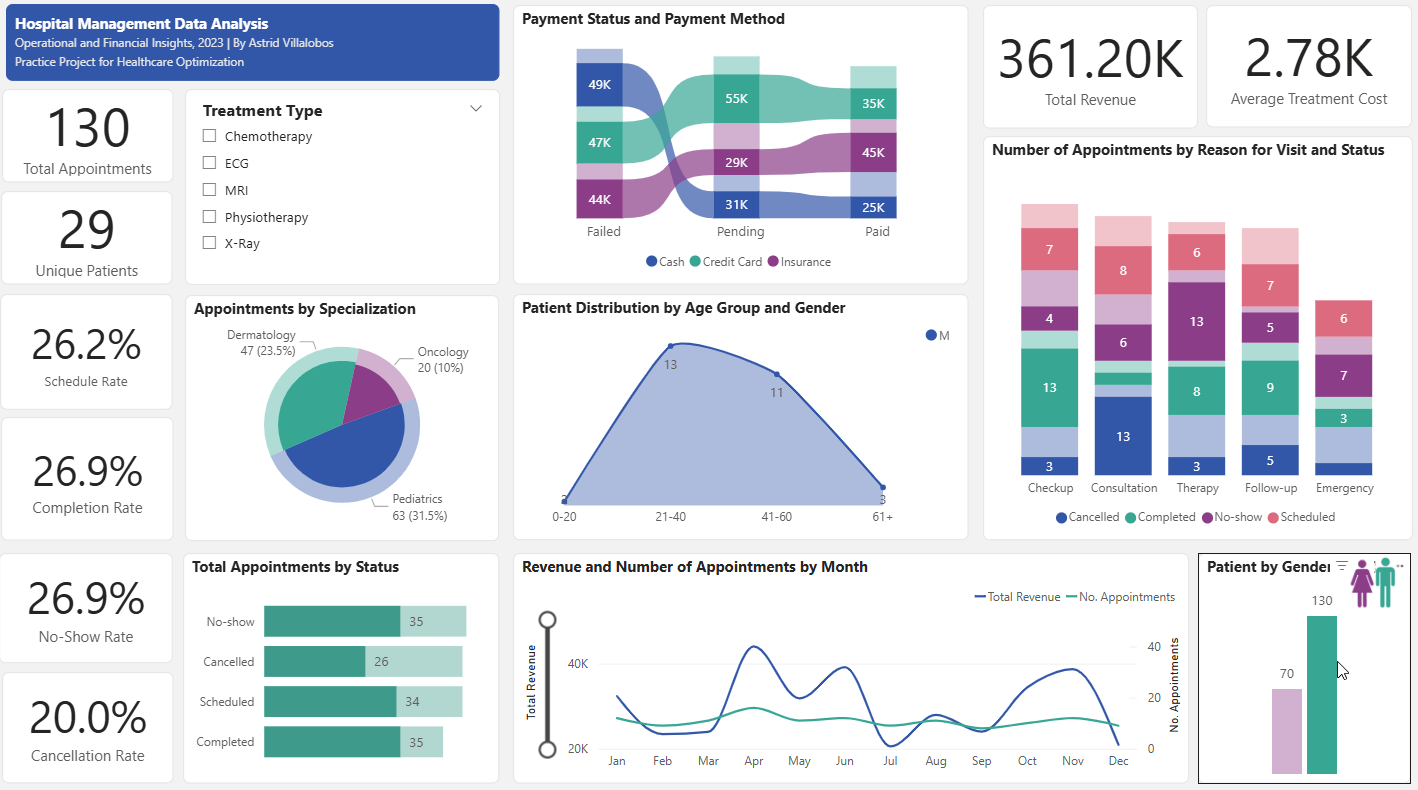

The dashboard page shown, as its layout file describes it:
{"tool":"powerbi","page":{"name":"Resumen General","canvas":[1280,720],"ordinal":0},"visuals":[{"type":"card","fields":{"Values":["Measures Hospital Data.Total Appointments"]},"box":[8.1,85.3,153.5,84.4],"z":0},{"type":"card","fields":{"Values":["Measures Hospital Data.Completion Rate"]},"box":[7,380,155.3,110.7],"z":1000},{"type":"card","fields":{"Values":["Measures Hospital Data.No-Show Rate"]},"box":[5,502,156,99],"z":2000},{"type":"card","fields":{"Values":["Measures Hospital Data.Cancellation Rate"]},"box":[8,608.7,154,100],"z":3000},{"type":"card","fields":{"Values":["Measures Hospital Data.Total Revenue"]},"box":[889,10,193,111],"z":4000},{"type":"card","fields":{"Values":["Measures Hospital Data.Average Treatment Cost"]},"box":[1089,10,185,110],"z":5000},{"type":"card","fields":{"Values":["Measures Hospital Data.Unique Patients"]},"box":[7,177,154,84],"z":6000},{"type":"clusteredBarChart","fields":{"Category":["hospital_data_cleaned.status"],"Y":["Measures Hospital Data.Total Appointments"]},"box":[171,502,284,207],"z":7000},{"type":"columnChart","title":"Number of Appointments by Reason for Visit and Status","fields":{"Category":["hospital_data_cleaned.reason_for_visit"],"Y":["Measures Hospital Data.Total Appointments"],"Series":["hospital_data_cleaned.status"]},"box":[888.8,127.9,385.6,363.2],"z":8000},{"type":"lineChart","title":"Revenue and Number  of Appointments by Month","fields":{"Y":["Measures Hospital Data.Total Revenue"],"Y2":["Measures Hospital Data.Total Appointments"],"Category":["MonthTable.Month_Name"]},"box":[466.8,501.8,606.9,207.4],"z":9000},{"type":"textbox","box":[11.7,9,443.5,69.1],"z":10000},{"type":"ribbonChart","title":"Payment Status and Payment Method","fields":{"Category":["hospital_data_cleaned.payment_status"],"Y":["Sum(hospital_data_cleaned.amount)"],"Series":["hospital_data_cleaned.payment_method"]},"box":[467,10,409.2,251.2],"z":11000},{"type":"slicer","fields":{"Values":["hospital_data_cleaned.treatment_type"]},"box":[172.7,85,282.9,176.5],"z":13000},{"type":"clusteredColumnChart","title":"Patient by Gender","fields":{"Series":["hospital_data_cleaned.gender"],"Y":["CountNonNull(hospital_data_cleaned.patient_id)"]},"box":[1081.8,501.8,191.2,207.4],"z":14000},{"type":"pieChart","title":"Appointments by Specialization","fields":{"Category":["hospital_data_cleaned.specialization"],"Y":["Count(hospital_data_cleaned.appointment_id)"]},"box":[172,270,282,221],"z":15000},{"type":"card","fields":{"Values":["Measures Hospital Data.Schedule Rate"]},"box":[6.3,269.3,154.7,104],"z":16000},{"type":"areaChart","title":"Patient Distribution by Age Group and Gender","fields":{"Category":["hospital_data_cleaned.Age Group"],"Y":["Measures Hospital Data.Patient Count"],"Series":["hospital_data_cleaned.gender"]},"box":[466.8,269.3,409.4,220.8],"z":17000},{"type":"image","box":[1220.3,500.6,59.7,55],"z":18000},{"type":"image","box":[1205.1,502.5,49.3,53.1],"z":19000}]}

Visuals, with their boxes in screenshot pixels (x1, y1, x2, y2), scaled from the page's 1280x720 canvas onto the 1418x790 screenshot:
card - Measures Hospital Data.Total Appointments: bbox=(9, 94, 179, 186)
card - Measures Hospital Data.Completion Rate: bbox=(8, 417, 180, 538)
card - Measures Hospital Data.No-Show Rate: bbox=(6, 551, 178, 659)
card - Measures Hospital Data.Cancellation Rate: bbox=(9, 668, 179, 778)
card - Measures Hospital Data.Total Revenue: bbox=(985, 11, 1199, 133)
card - Measures Hospital Data.Average Treatment Cost: bbox=(1206, 11, 1411, 132)
card - Measures Hospital Data.Unique Patients: bbox=(8, 194, 178, 286)
clusteredBarChart - hospital_data_cleaned.status x Measures Hospital Data.Total Appointments: bbox=(189, 551, 504, 778)
"Number of Appointments by Reason for Visit and Status" columnChart: bbox=(985, 140, 1412, 539)
"Revenue and Number  of Appointments by Month" lineChart: bbox=(517, 551, 1189, 778)
textbox: bbox=(13, 10, 504, 86)
"Payment Status and Payment Method" ribbonChart: bbox=(517, 11, 971, 287)
slicer - hospital_data_cleaned.treatment_type: bbox=(191, 93, 505, 287)
"Patient by Gender" clusteredColumnChart: bbox=(1198, 551, 1410, 778)
"Appointments by Specialization" pieChart: bbox=(191, 296, 503, 539)
card - Measures Hospital Data.Schedule Rate: bbox=(7, 295, 178, 410)
"Patient Distribution by Age Group and Gender" areaChart: bbox=(517, 295, 971, 538)
image: bbox=(1352, 549, 1417, 610)
image: bbox=(1335, 551, 1390, 610)
